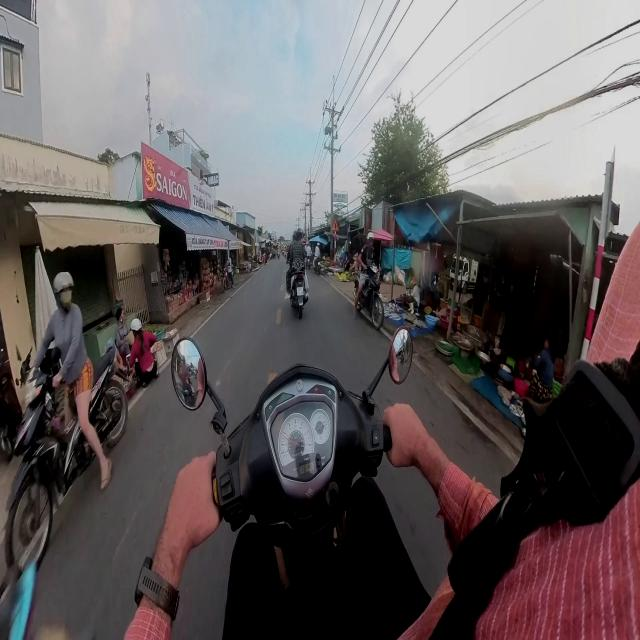motorcycle: (172, 327, 412, 637), (5, 349, 94, 567), (358, 265, 383, 330), (290, 259, 307, 318)
